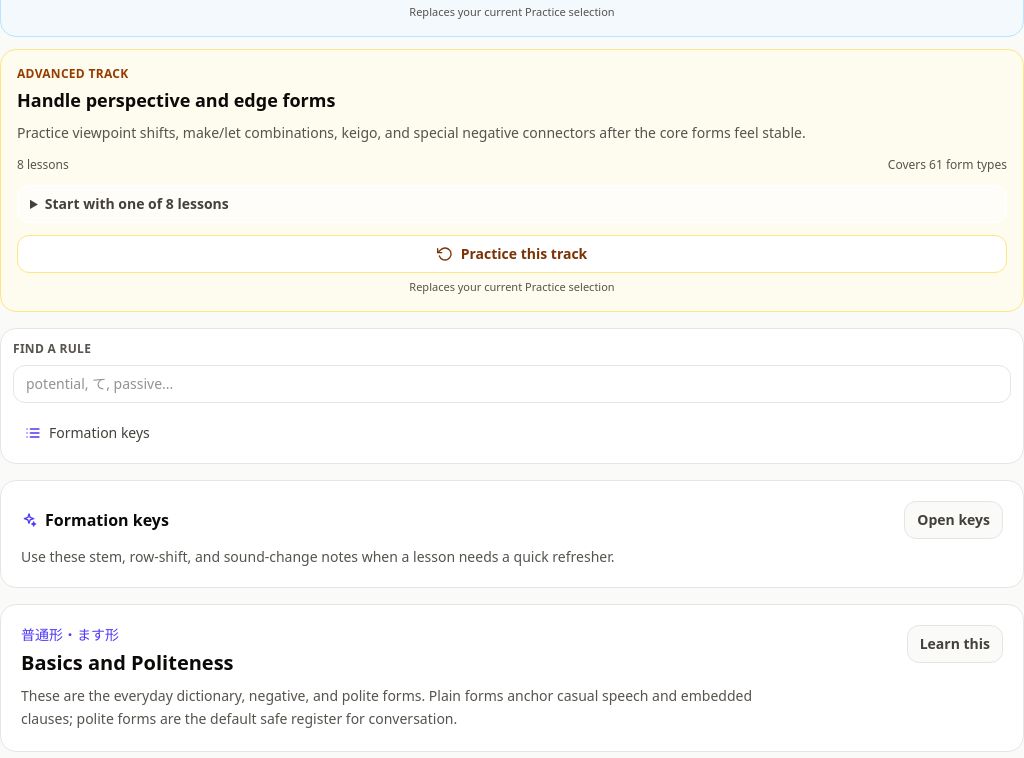
Test: beginner learning support › finds beginner examples by their kana or English support
(page scrolled)
Type "たべましょう" into the field labelled "Find a rule" at coordinates (512, 384), box [13,365,1011,403]
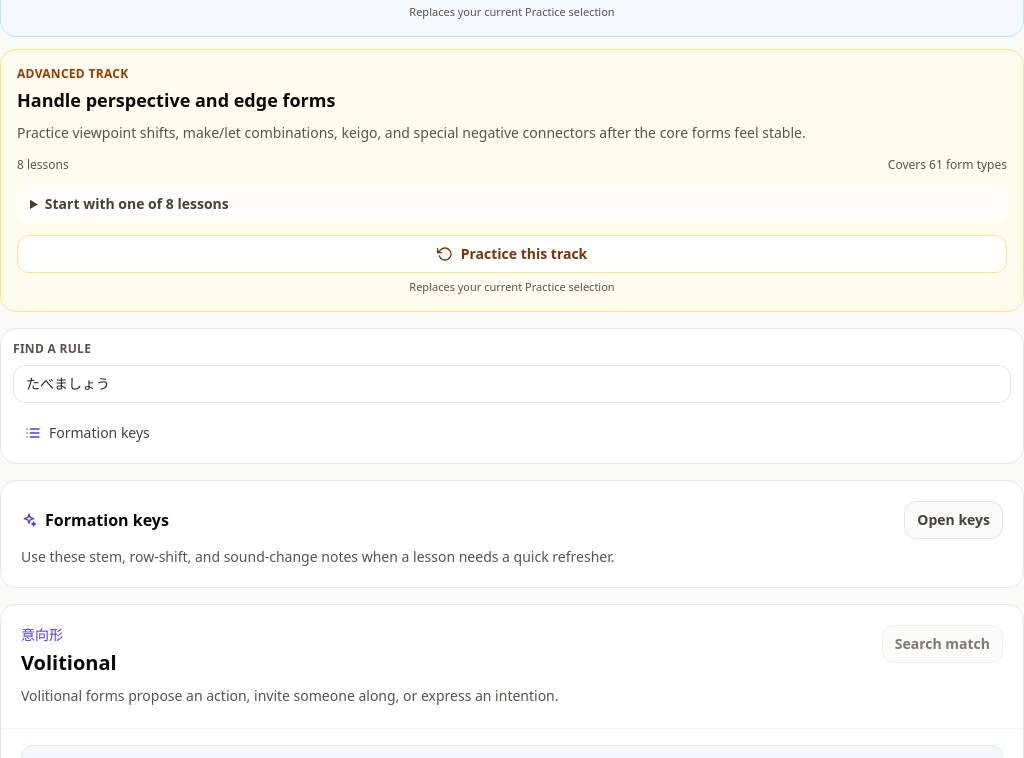
Expected: the heading "Volitional" is shown, [21,649,117,676]
Result: the element with id "lesson-basic-tenses" is gone
Replace the text in the field labelled "Find a rule" with "wanted to write" at coordinates (512, 384), box [13,365,1011,403]
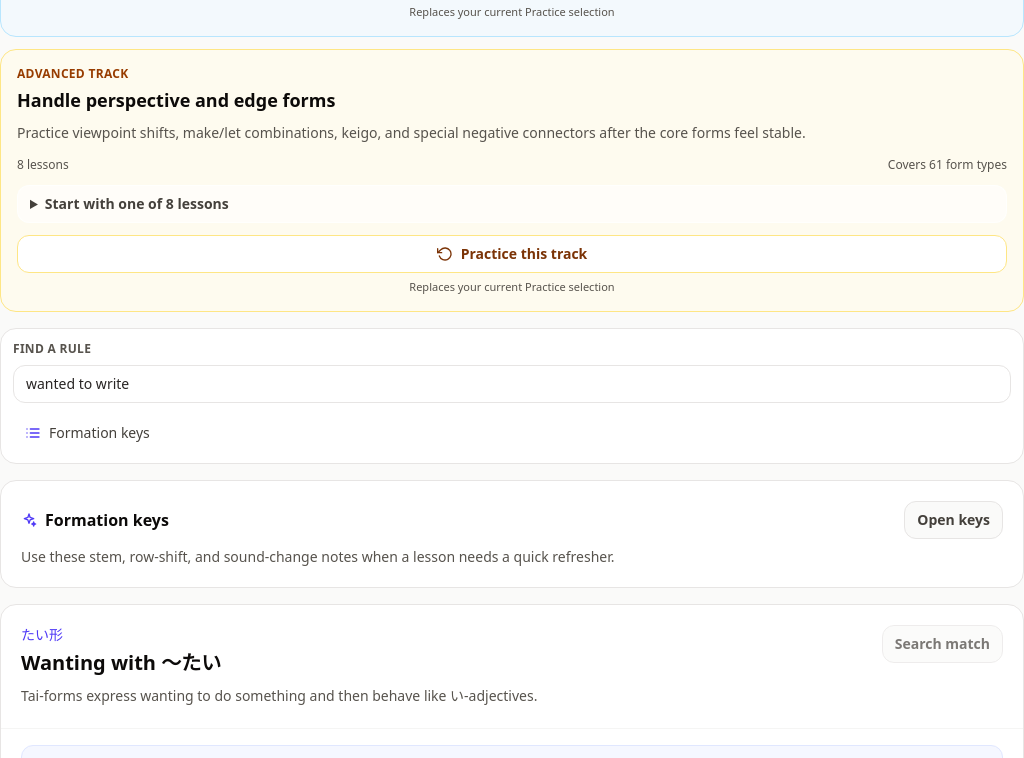
Result: the heading "Wanting with 〜たい" is shown at [21,649,221,676]
